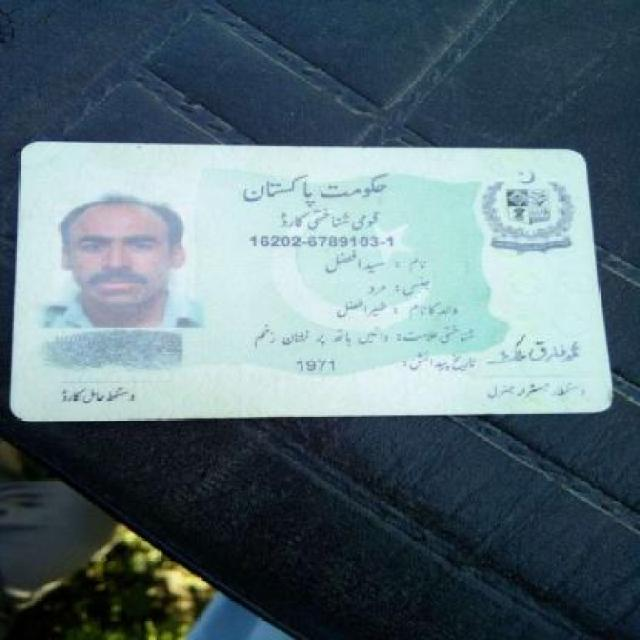Front: (15, 142, 620, 420)
